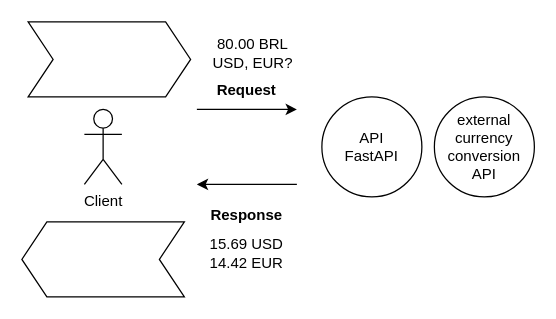
The diagram is 556 pixels wide and 319 high, and some of its shapes have lost their labels. The centre of each missing label's shape, as x and y in pixels:
"* converted price for each currency" belongs at point 102,259.
"* price * source currency * currencies for conversion" belongs at point 109,59.
